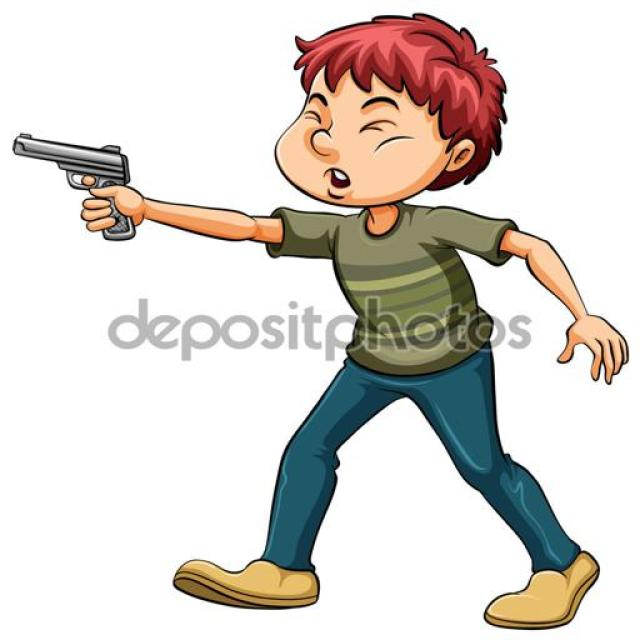pistol: (6, 130, 144, 245)
